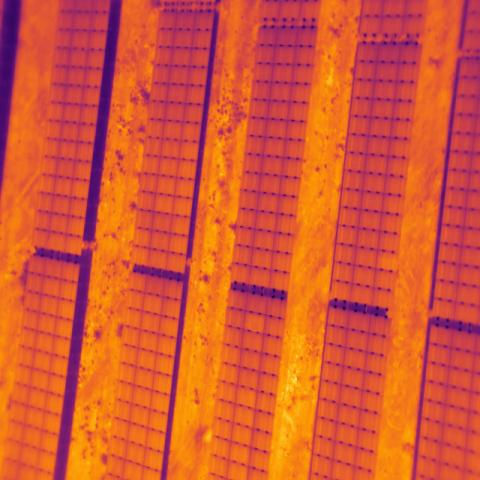fault: (376, 250, 399, 273), (245, 312, 265, 334)
